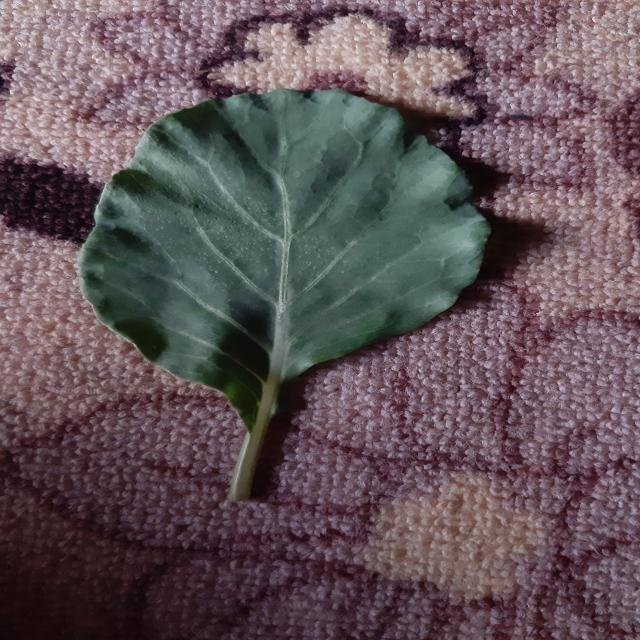Kohlrabi: (80, 89, 489, 501)
